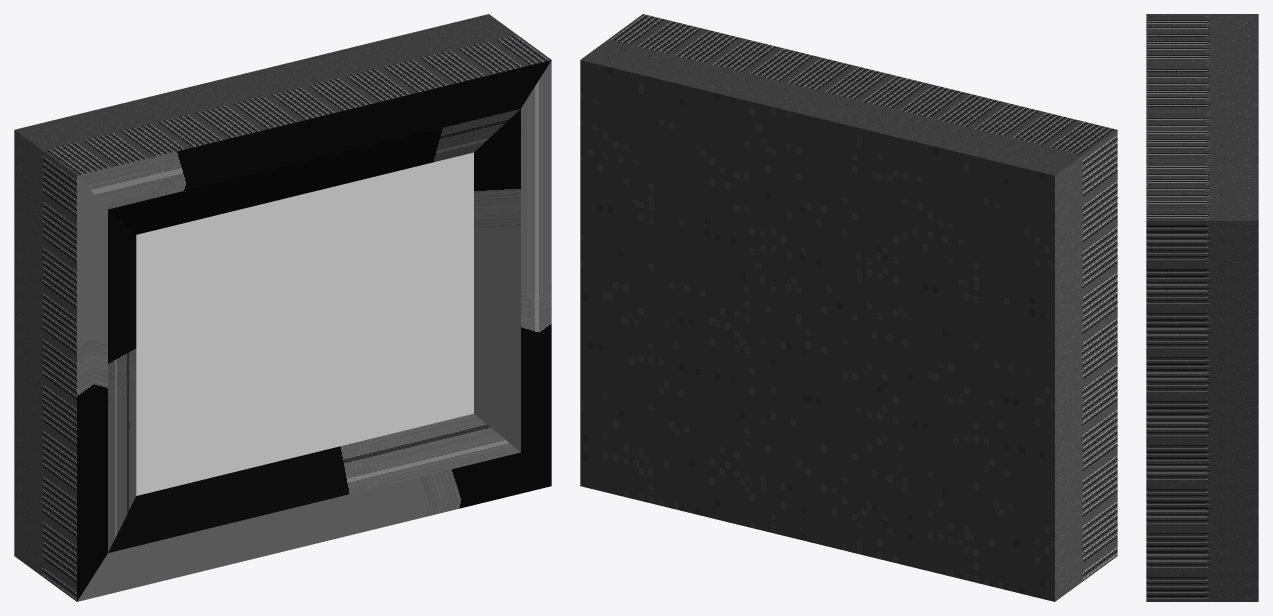
Rendered from primary_186.glb.
3 views of the same model, side by side, from view 1: azimuth 30°, elevation 25°; view 2: azimuth 150°, elevation 25°; view 3: azimuth 270°, elevation 25° (orthographic). The views are drawn at different scales.
Parts seen in each view (by area): view 1: Object; view 2: Object; view 3: Object.
Boxes of the visible parts, x1,y1,x2,y2 form: Object: [14, 14, 551, 601]; Object: [580, 14, 1117, 601]; Object: [1146, 14, 1258, 601].
Bounding box in the file's own units: 0.5723 × 0.4909 × 0.1312.
7 materials, 7 textured.
